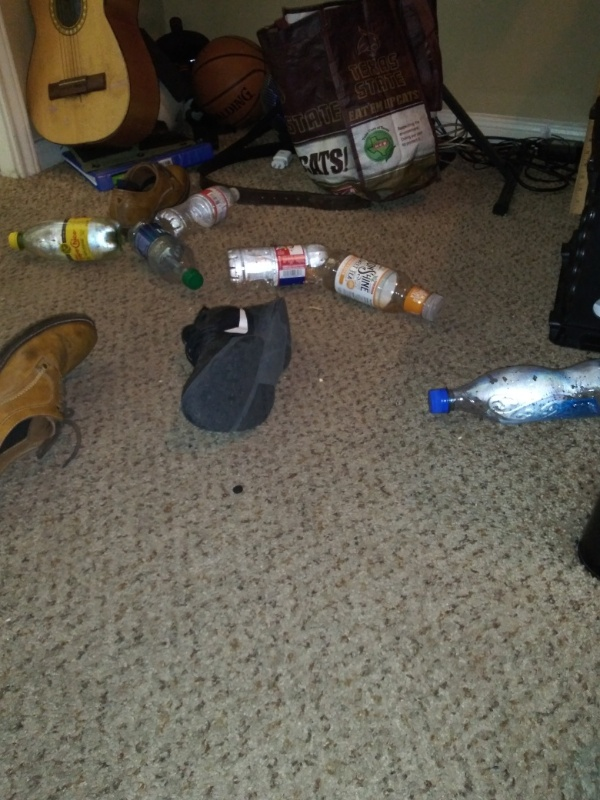bottle: (425, 355, 600, 435), (316, 245, 449, 326), (3, 214, 126, 272), (149, 180, 248, 244), (125, 219, 206, 293), (224, 239, 341, 290)
